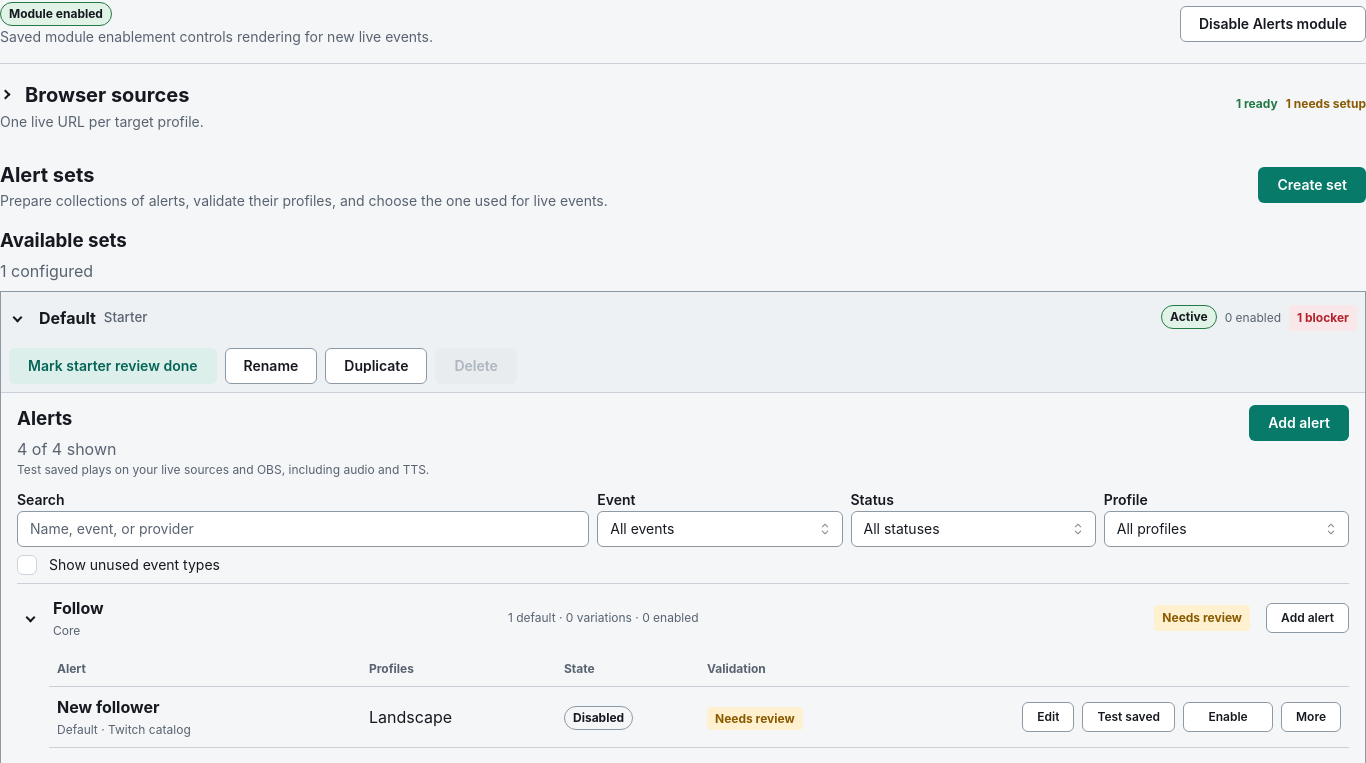
Scenario: AlertSetsPage › loads the active set with browser-source status and masked keys
The width and height of the screenshot is (1366, 763).
Expected: the text "One live URL per target profile." is shown, [0, 110, 204, 132]
Click the button with aria-label "Expand browser sources". click: (95, 94)
box: [0, 78, 189, 110]
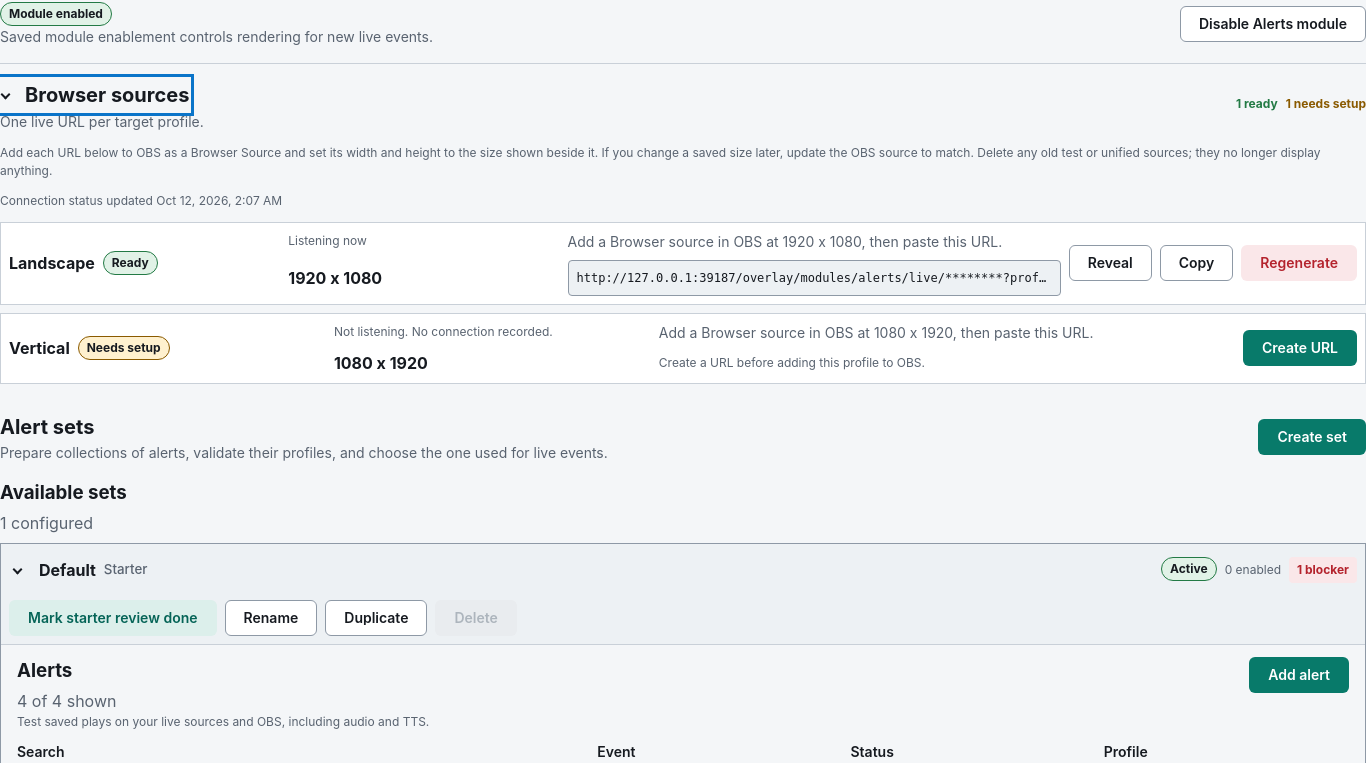
Result: the text "Ready" is shown at [103, 251, 158, 275]
Result: the text "Listening now" is shown at [288, 233, 367, 248]
Result: the text "1920 x 1080" is shown at [288, 268, 382, 288]
